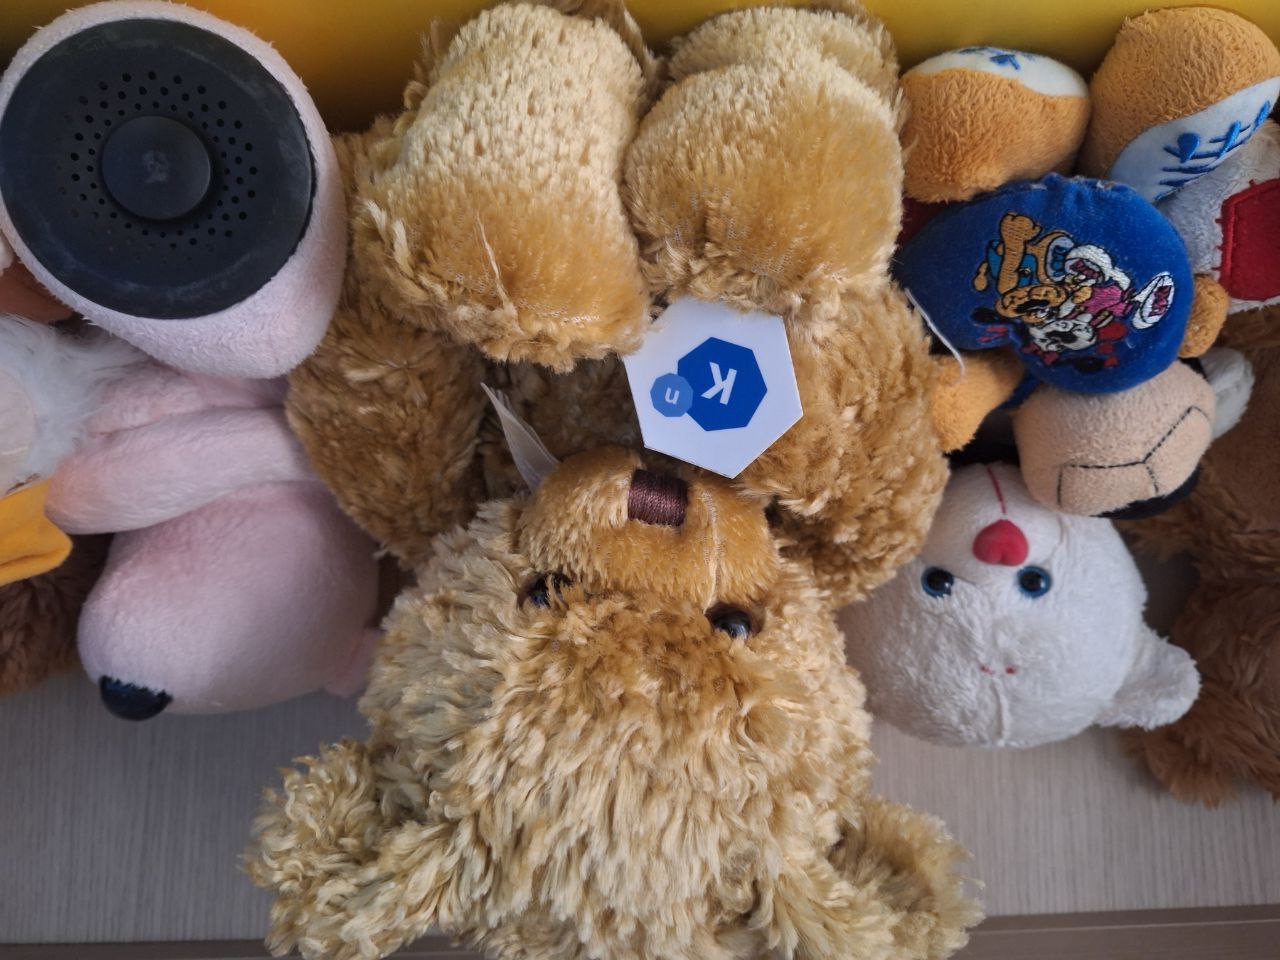knative: (647, 334, 769, 433)
